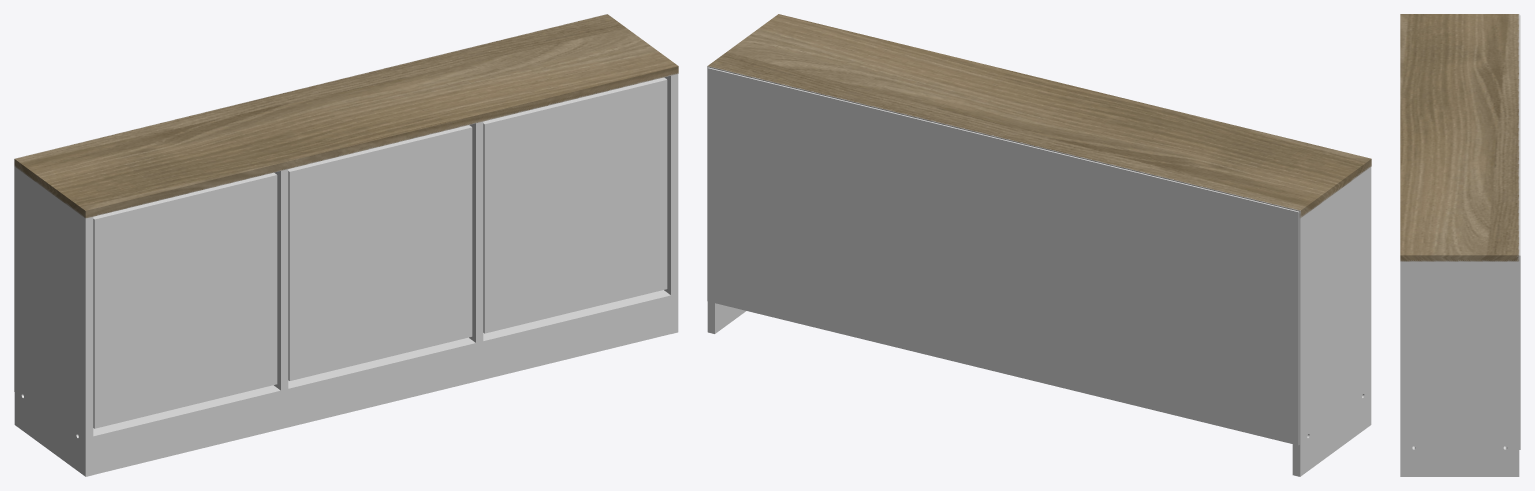
3 renders of one model, left to right at view 1: azimuth 30°, elevation 25°; view 2: azimuth 150°, elevation 25°; view 3: azimuth 270°, elevation 25°, orthographic. The views are drawn at different scales.
Visible parts, largest first — view 1: defaultobject; view 2: defaultobject; view 3: defaultobject.
Boxes of the visible parts, x1,y1,x2,y2 form: defaultobject: (14, 14, 678, 476); defaultobject: (707, 14, 1371, 476); defaultobject: (1400, 14, 1520, 476).
Size of the model in its own units: 12.01 by 5.15 by 2.53.
Materials: 1 (1 with a texture image).
